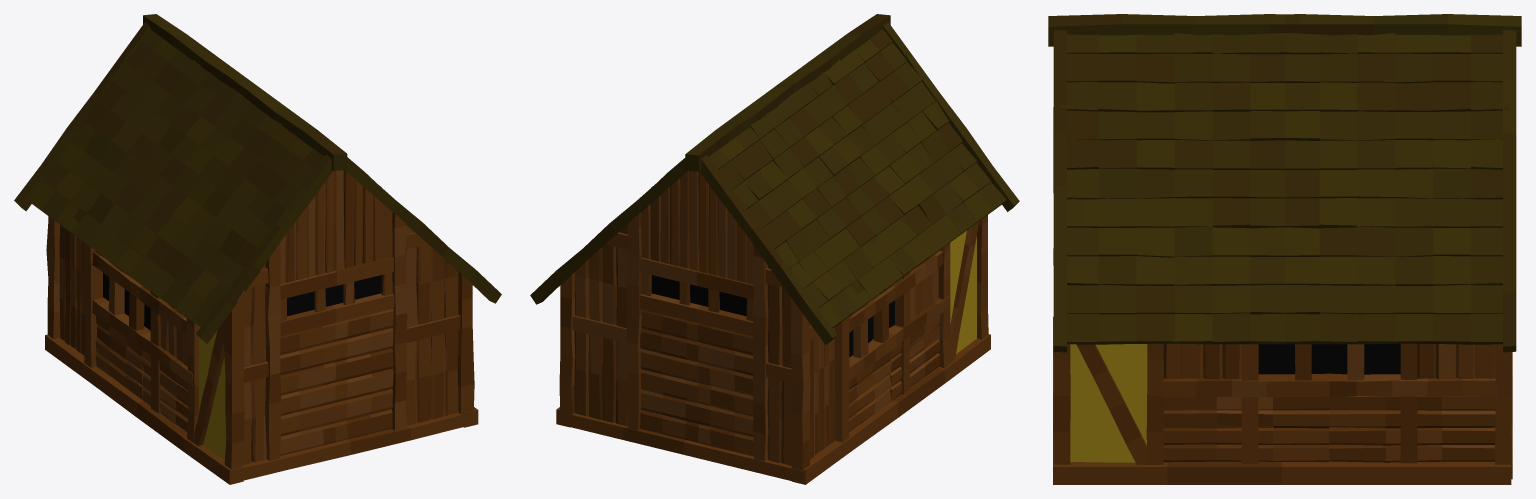
File: castle_town_shack_1.fbx
The picture shows the model from 3 angles, left to right: view 1: azimuth 30°, elevation 25°; view 2: azimuth 150°, elevation 25°; view 3: azimuth 270°, elevation 25°; orthographic projection. The views are drawn at different scales.
Visible parts, largest first — view 1: house 1.003; view 2: house 1.003; view 3: house 1.003.
Boxes of the visible parts, bbox=[...] form: house 1.003: bbox=[14, 14, 501, 484]; house 1.003: bbox=[530, 14, 1019, 484]; house 1.003: bbox=[1048, 14, 1521, 484].
Bounding box in the file's own units: 3934 × 3512 × 3588.
